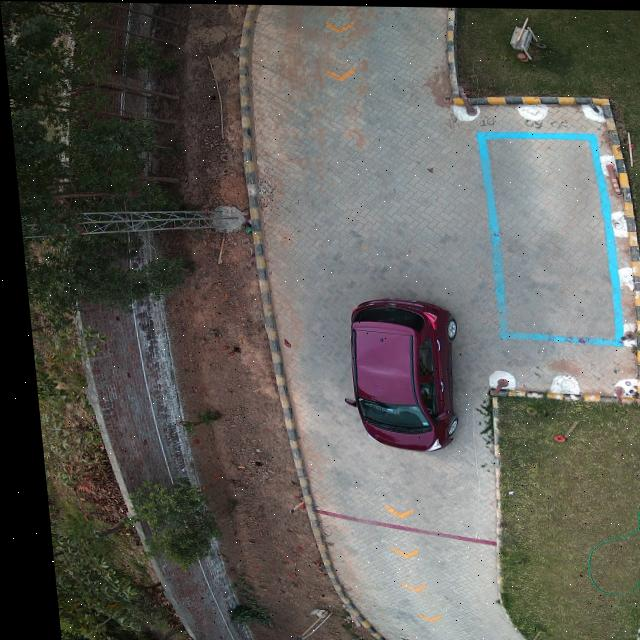car: (340, 297, 450, 450)
